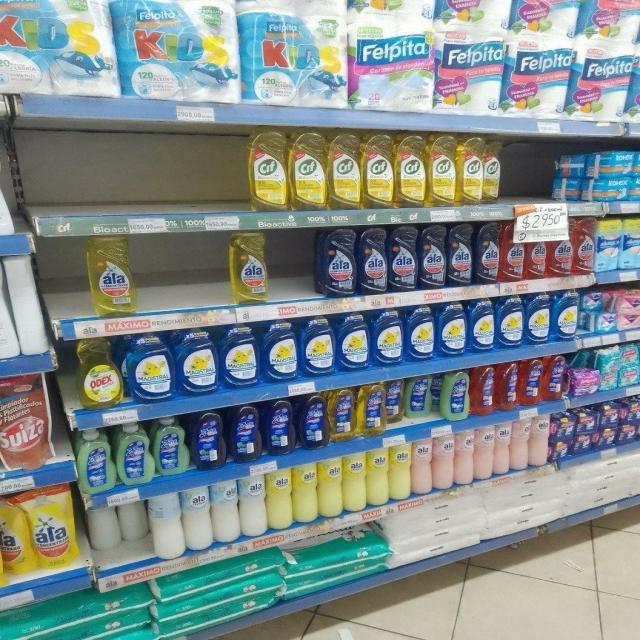ala_conc_amarillo: (87, 235, 136, 317), (228, 229, 270, 303)
ala_conc_azul: (316, 227, 356, 296), (357, 226, 387, 295), (388, 226, 417, 292), (418, 224, 446, 289), (447, 223, 473, 287), (474, 222, 500, 284)
ala_conc_rojo: (500, 222, 524, 282), (548, 222, 572, 277), (573, 216, 595, 275), (525, 226, 547, 280)
ala_crem_amarillo: (267, 468, 292, 530), (293, 462, 318, 523), (319, 456, 342, 518), (344, 451, 366, 512), (367, 446, 389, 506), (389, 440, 410, 501)
ala_crem_blanco: (149, 492, 182, 559), (184, 485, 212, 551), (240, 473, 266, 537), (213, 479, 239, 543)
ala_crem_rosado: (433, 433, 454, 490), (412, 436, 432, 495), (454, 430, 474, 486), (474, 425, 494, 481), (530, 414, 549, 466), (494, 421, 511, 475)
ala_sachet_amarillo: (32, 487, 77, 570), (0, 496, 30, 580)
cif_conc_bot_amarilla: (247, 130, 287, 212), (289, 130, 326, 211), (327, 131, 361, 210), (362, 132, 394, 209), (395, 133, 426, 208), (428, 133, 457, 207), (457, 135, 482, 206), (482, 137, 502, 204)
magistral_con_amarillo: (384, 379, 403, 424)
magistral_con_azul: (125, 331, 173, 402), (175, 326, 218, 396), (220, 323, 260, 389), (261, 318, 298, 384), (300, 314, 335, 378), (336, 311, 370, 373), (371, 308, 403, 367), (436, 301, 466, 358), (405, 304, 434, 362), (496, 294, 524, 349), (468, 298, 494, 353), (552, 290, 578, 342), (526, 292, 550, 345)
odex: (77, 336, 122, 408)
zorro: (116, 421, 151, 485), (190, 408, 226, 469), (153, 416, 188, 476), (328, 387, 356, 442), (357, 382, 384, 436), (441, 369, 469, 420), (519, 357, 542, 406)
